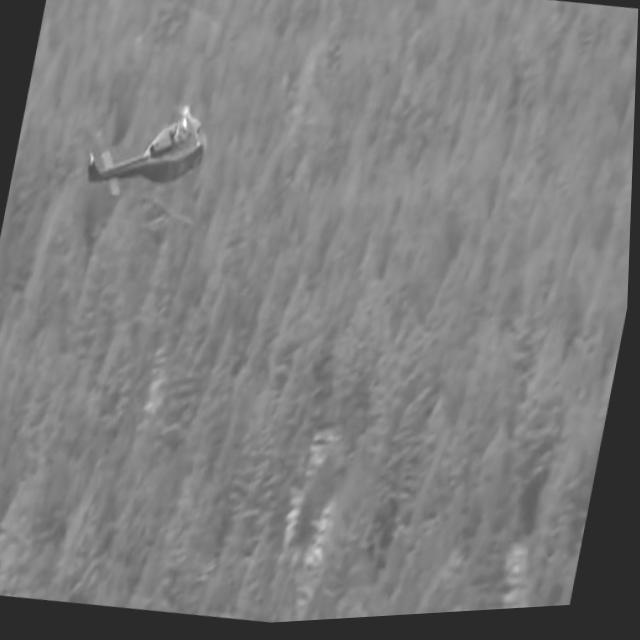helikopter: (57, 76, 251, 240)
